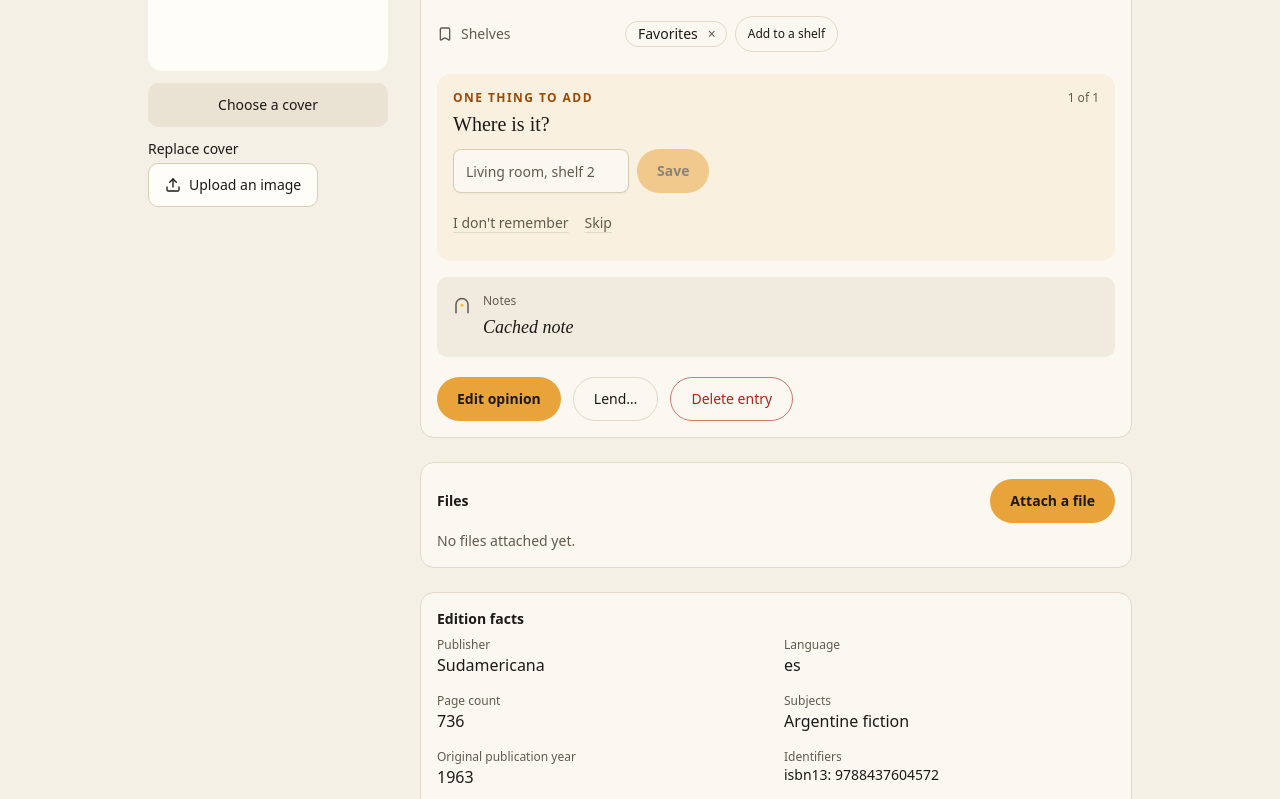
Scenario: DetailPage › refuses an impossible date range and keeps the typed values
The width and height of the screenshot is (1280, 799).
(page scrolled)
Click the button "Edit opinion" at (499, 399), box left=437, top=377, right=561, bottom=421
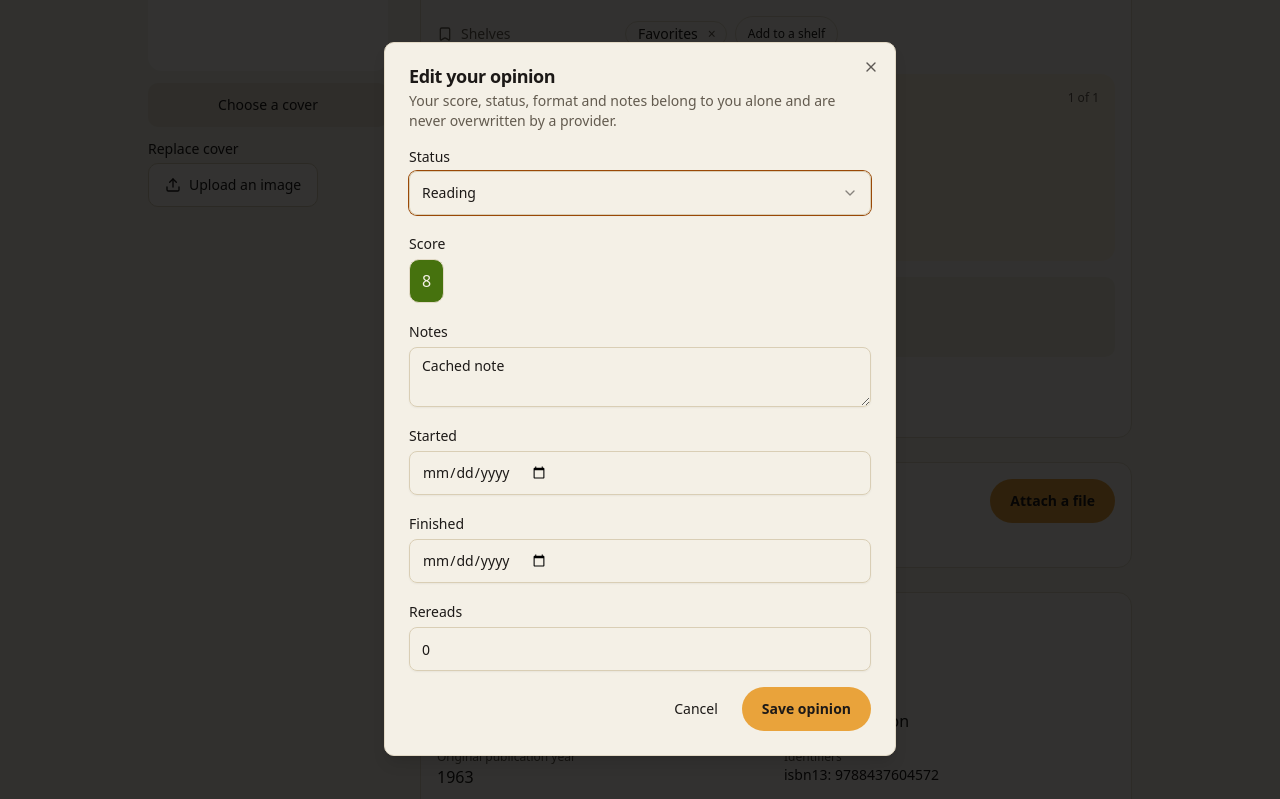
Type "2026-05-10" into the date field labelled "Started" at (640, 473), box left=409, top=451, right=871, bottom=495
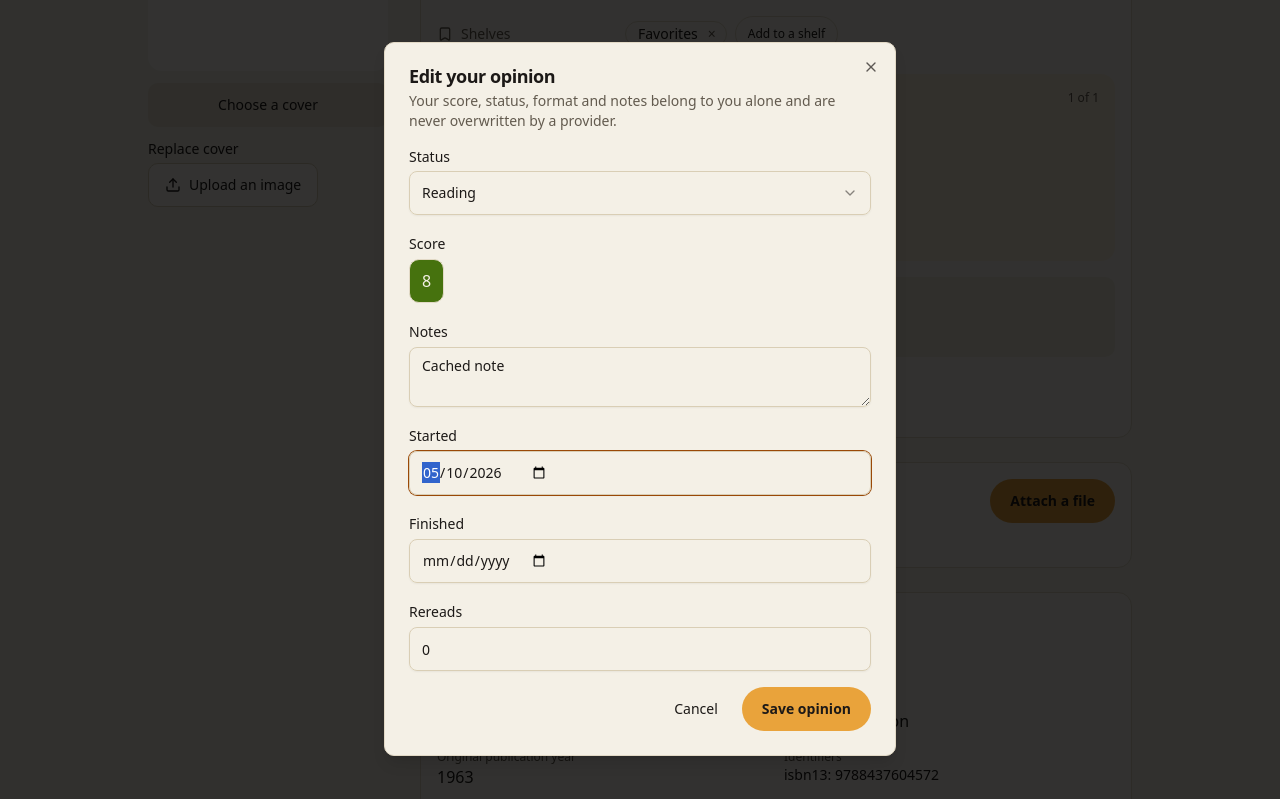
Type "2026-01-02" into the date field labelled "Finished" at (640, 561), box left=409, top=539, right=871, bottom=583
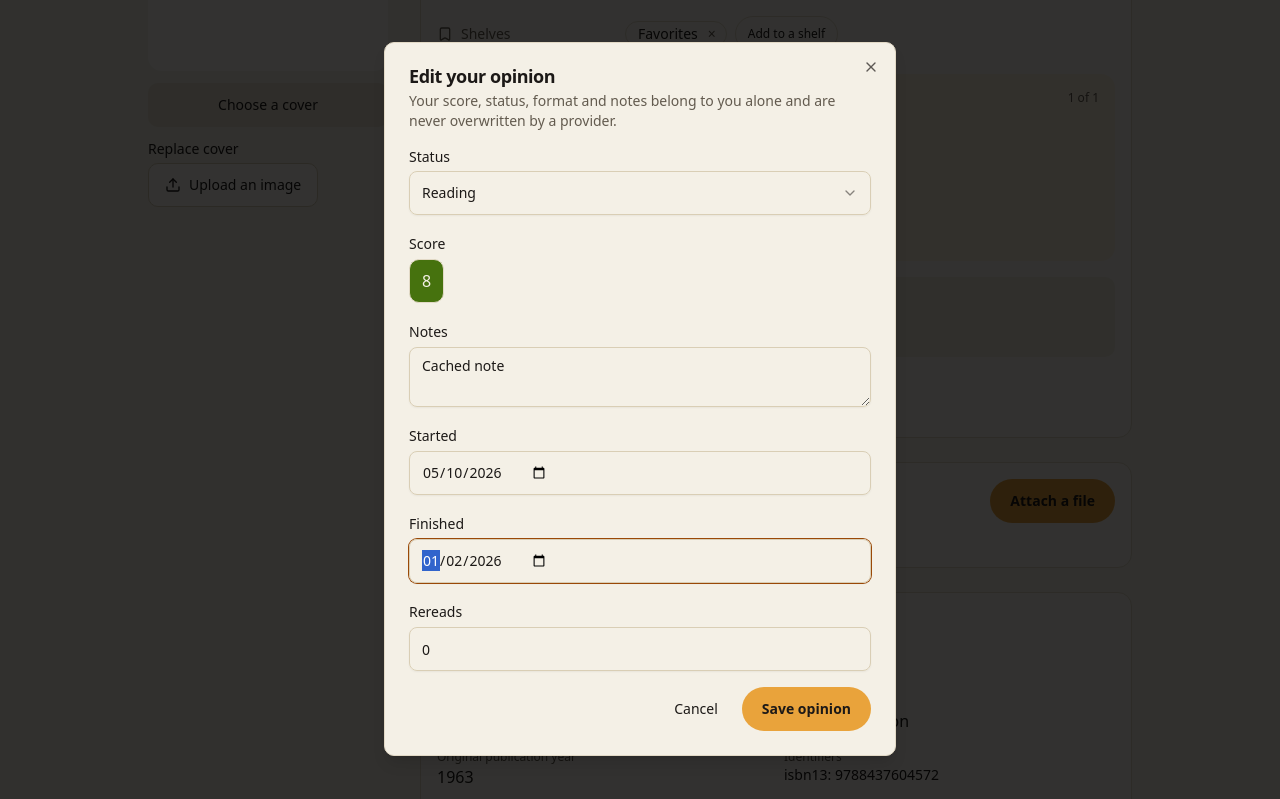
Type " and a note" into the text box labelled "Notes" at (640, 377), box left=409, top=347, right=871, bottom=407
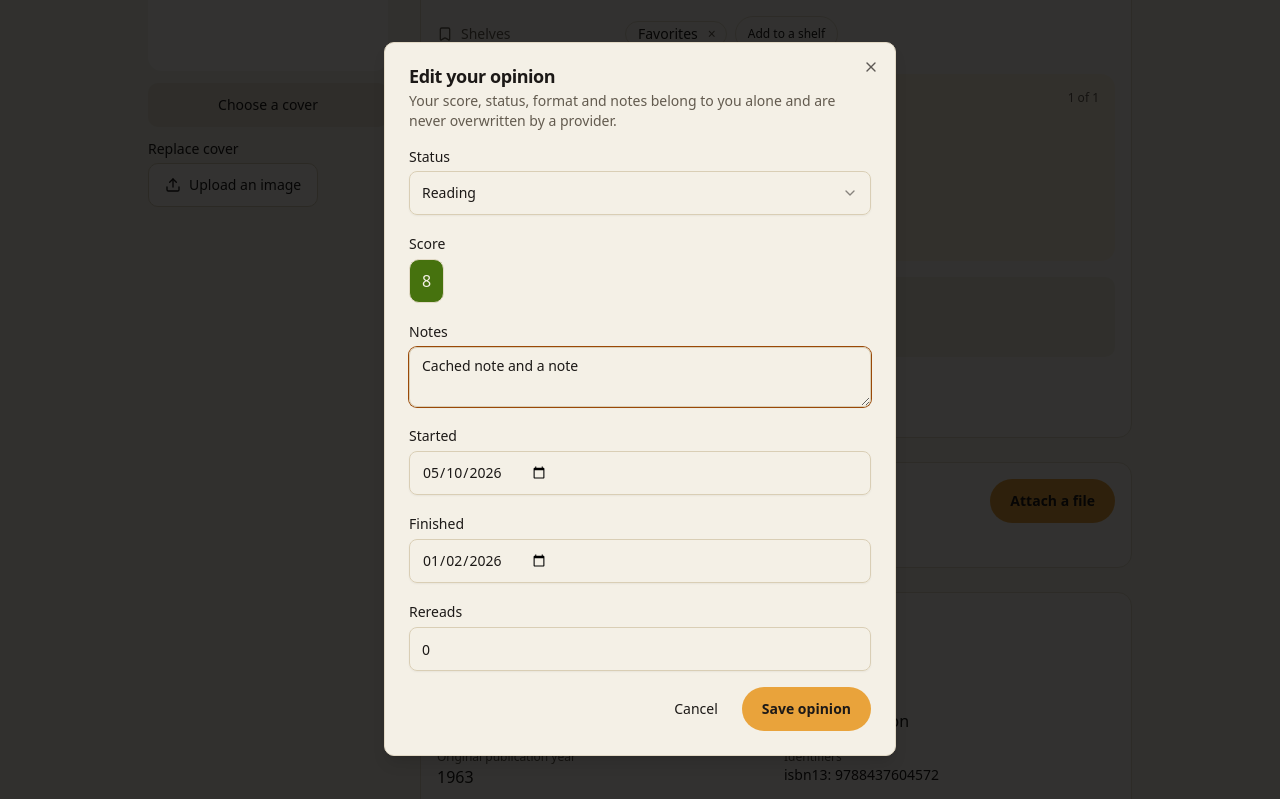
Click the button "Save opinion" at (806, 709), box left=742, top=687, right=871, bottom=731
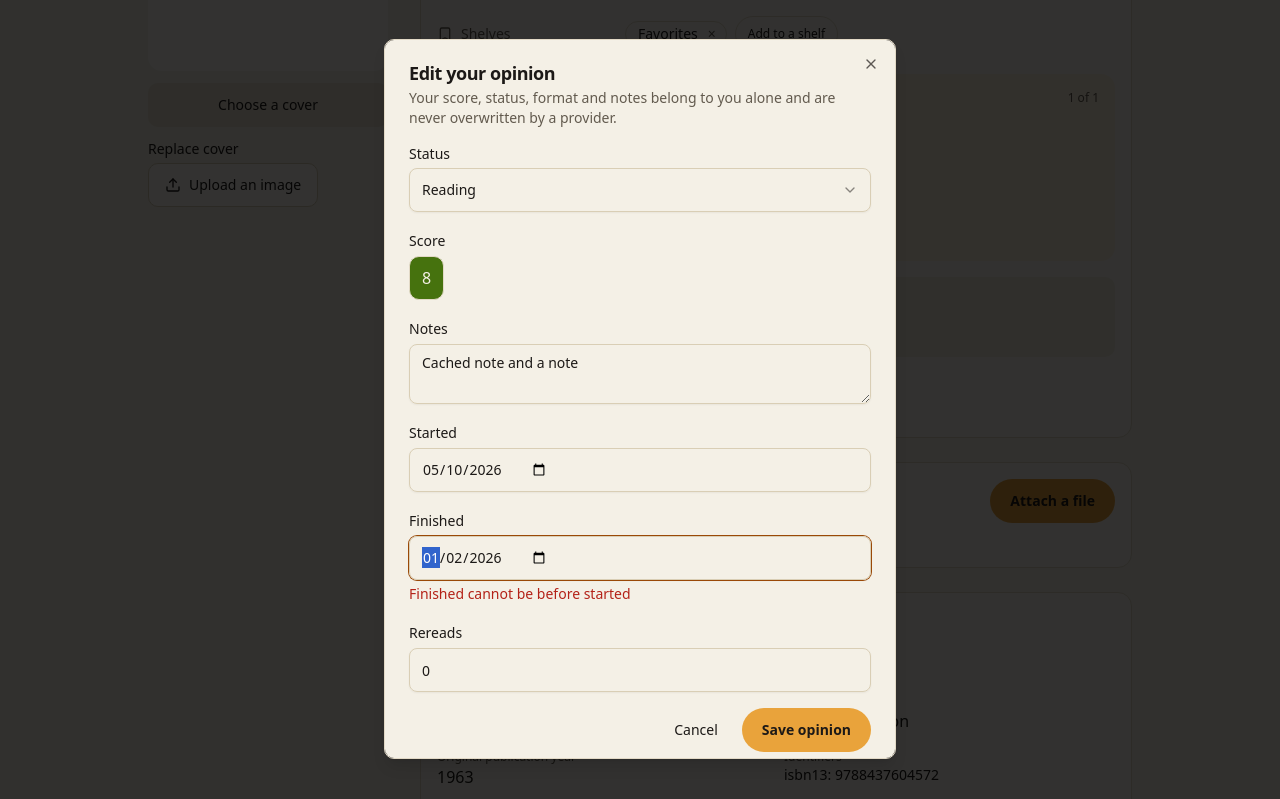
Result: the dialog "Edit your opinion" is shown at left=384, top=39, right=896, bottom=759
Result: the text box labelled "Notes" holds "Cached note and a note" at left=409, top=344, right=871, bottom=404
Result: the message reads "Finished cannot be before started" at left=409, top=584, right=631, bottom=603
